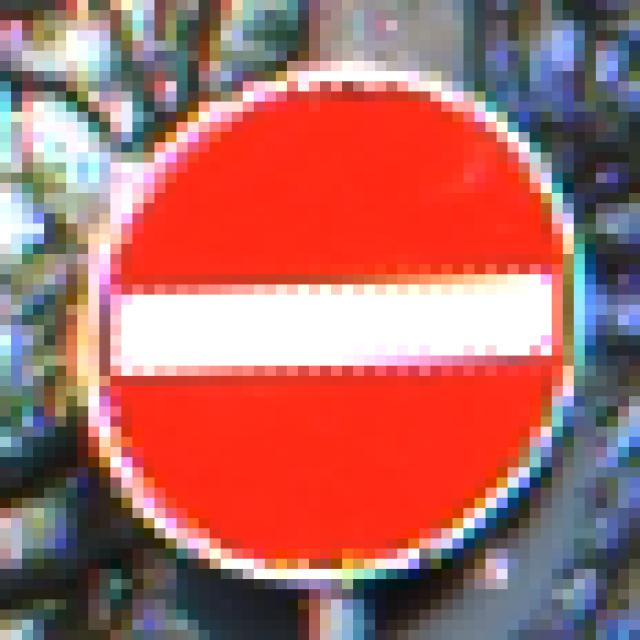No Entry: (67, 62, 586, 590)
